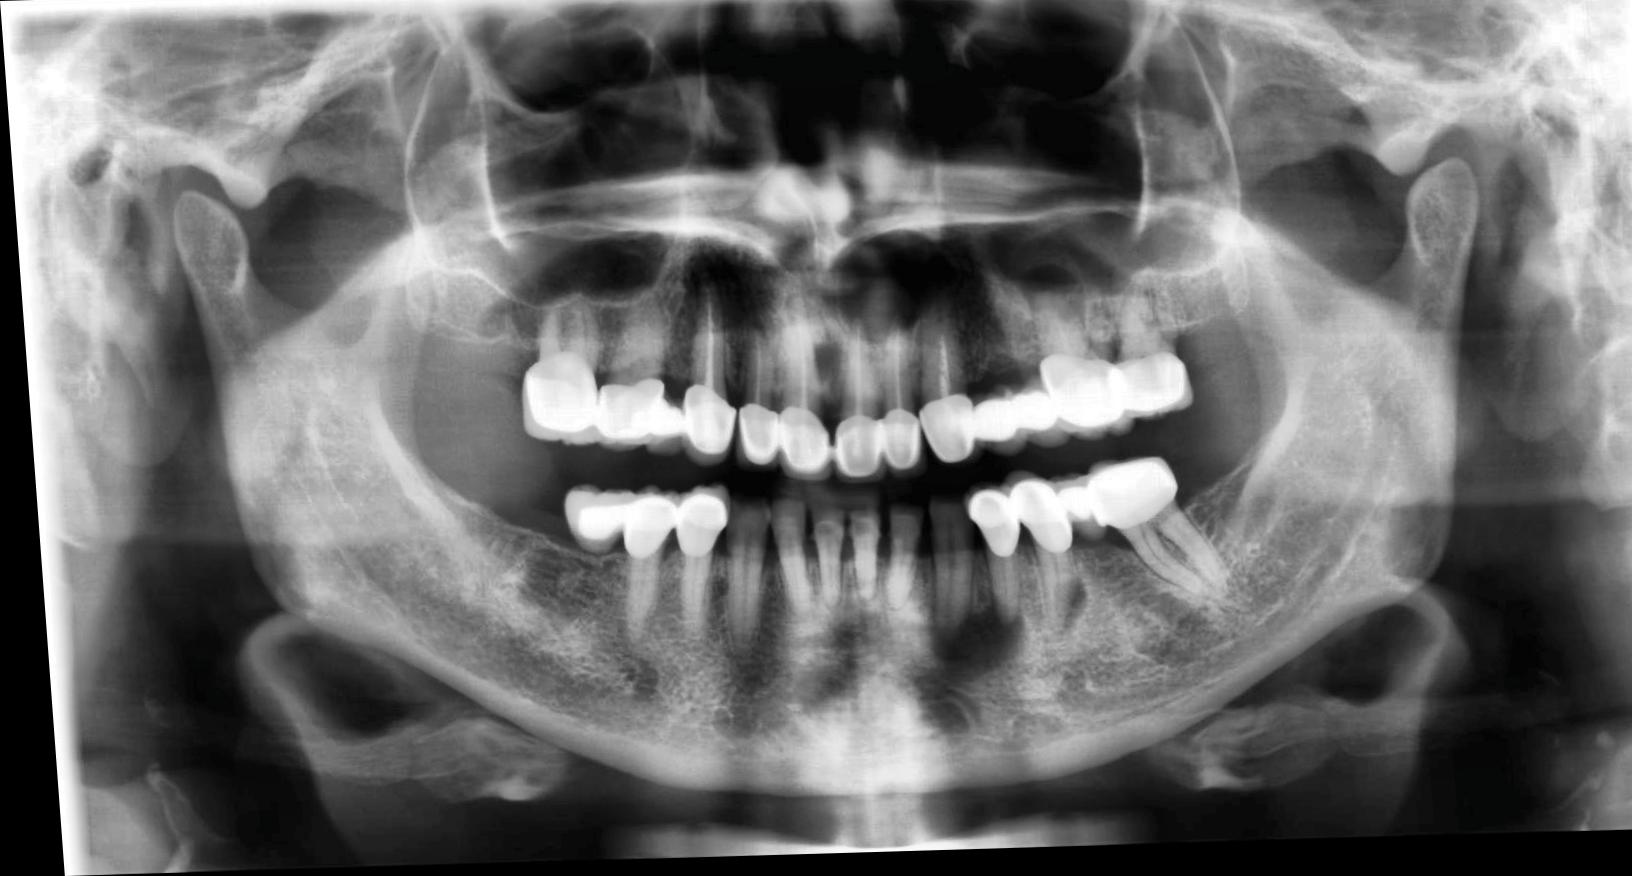radicular: (807, 230, 964, 357)
